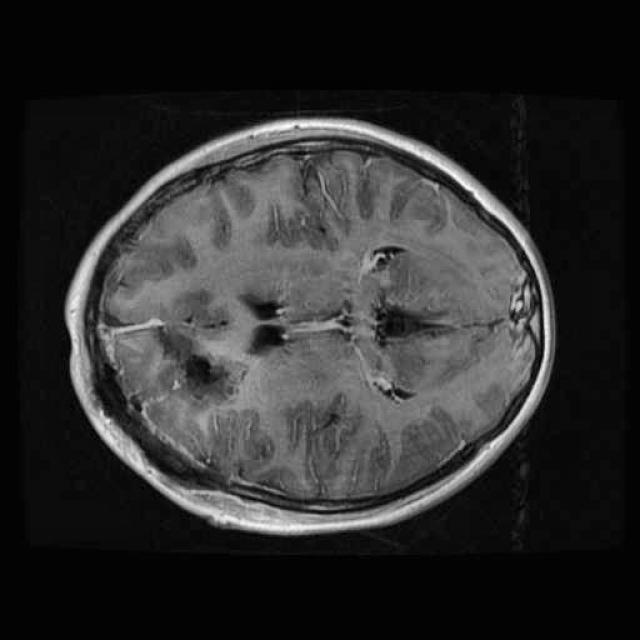Tumor: (148, 277, 254, 418)
